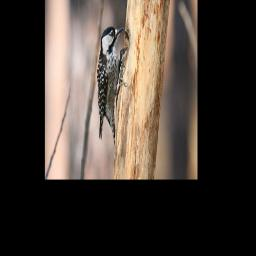Woodpecker: (97, 25, 128, 144)
